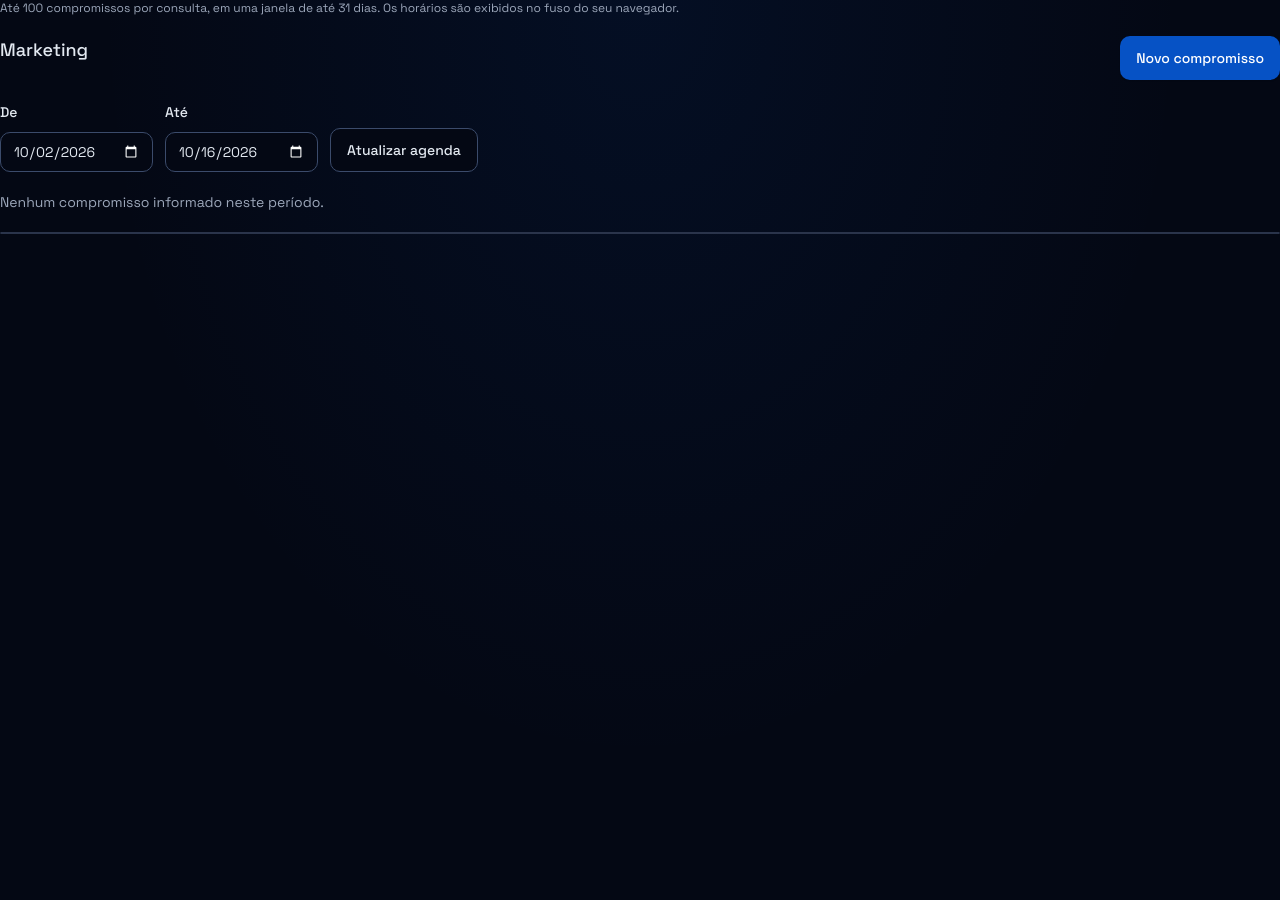
Workspace human review › publishes a calendar commitment only after preview and explicit confirmation
Click the button "Novo compromisso": [1200, 58] box [1120, 36, 1279, 80]
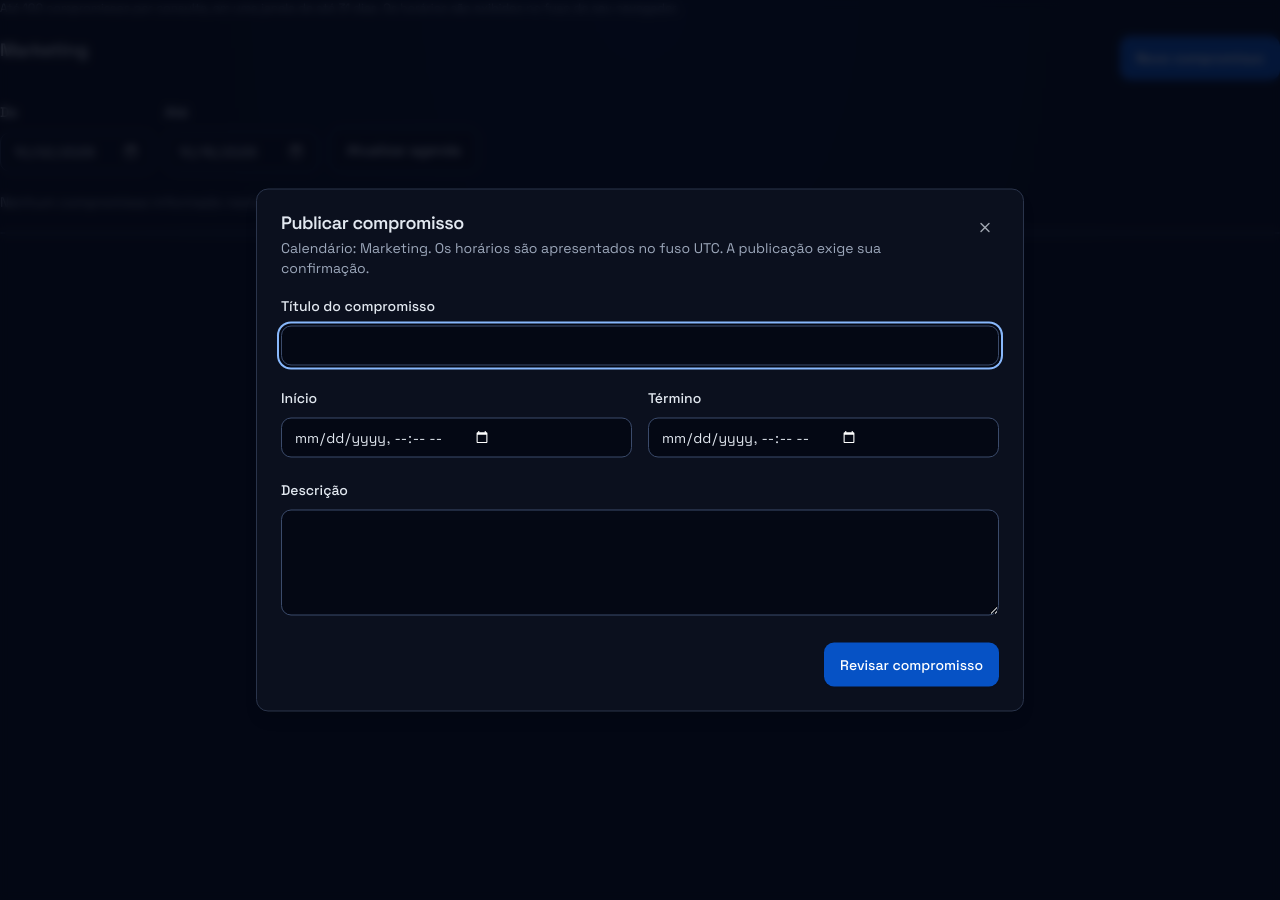
In the field labelled "Título do compromisso": [640, 346] box [281, 326, 999, 366], type "Revisão de criativos"
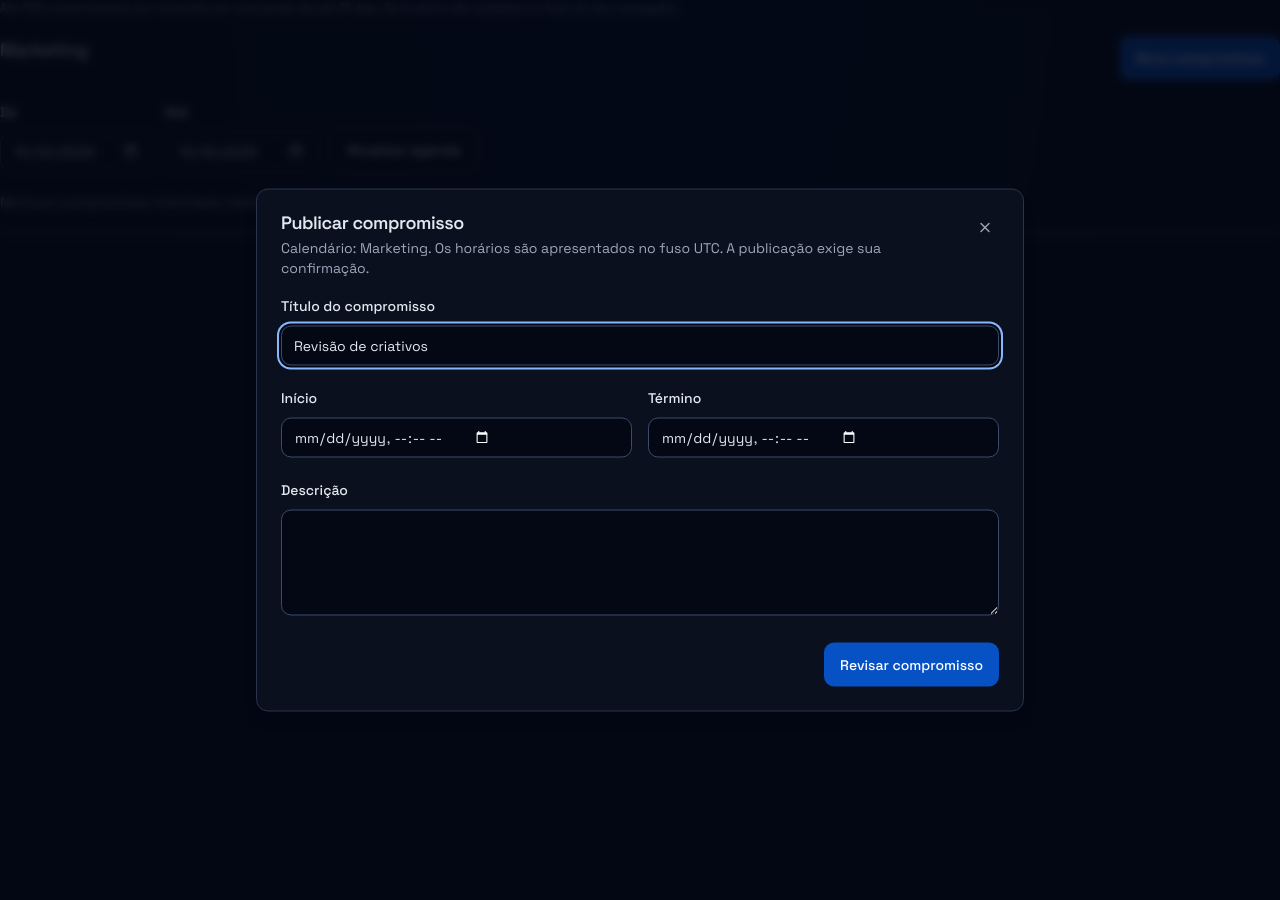
In the field labelled "Início": [456, 438] box [281, 418, 632, 458], type "2026-10-10T09:00"
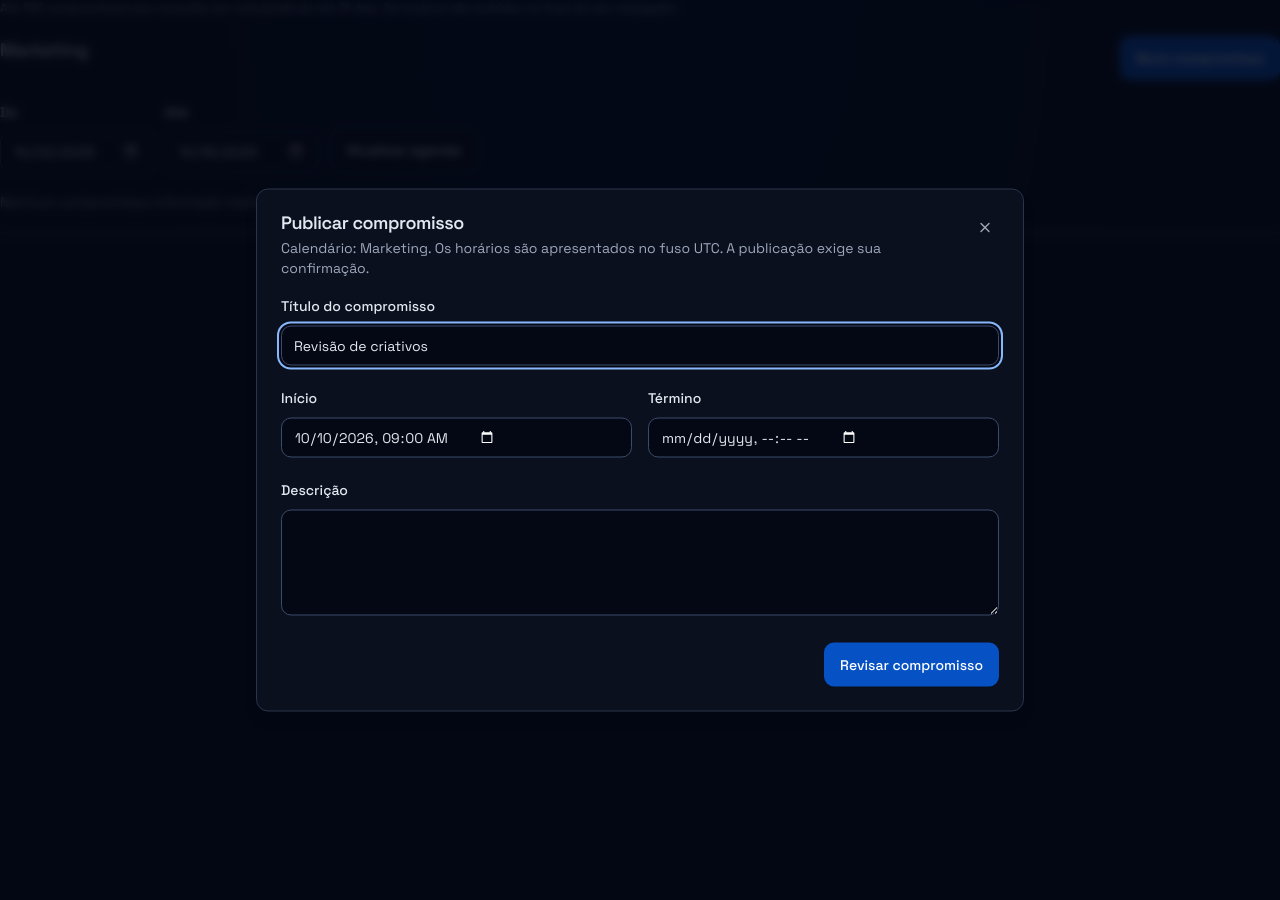
In the field labelled "Término": [824, 438] box [648, 418, 999, 458], type "2026-10-10T10:00"
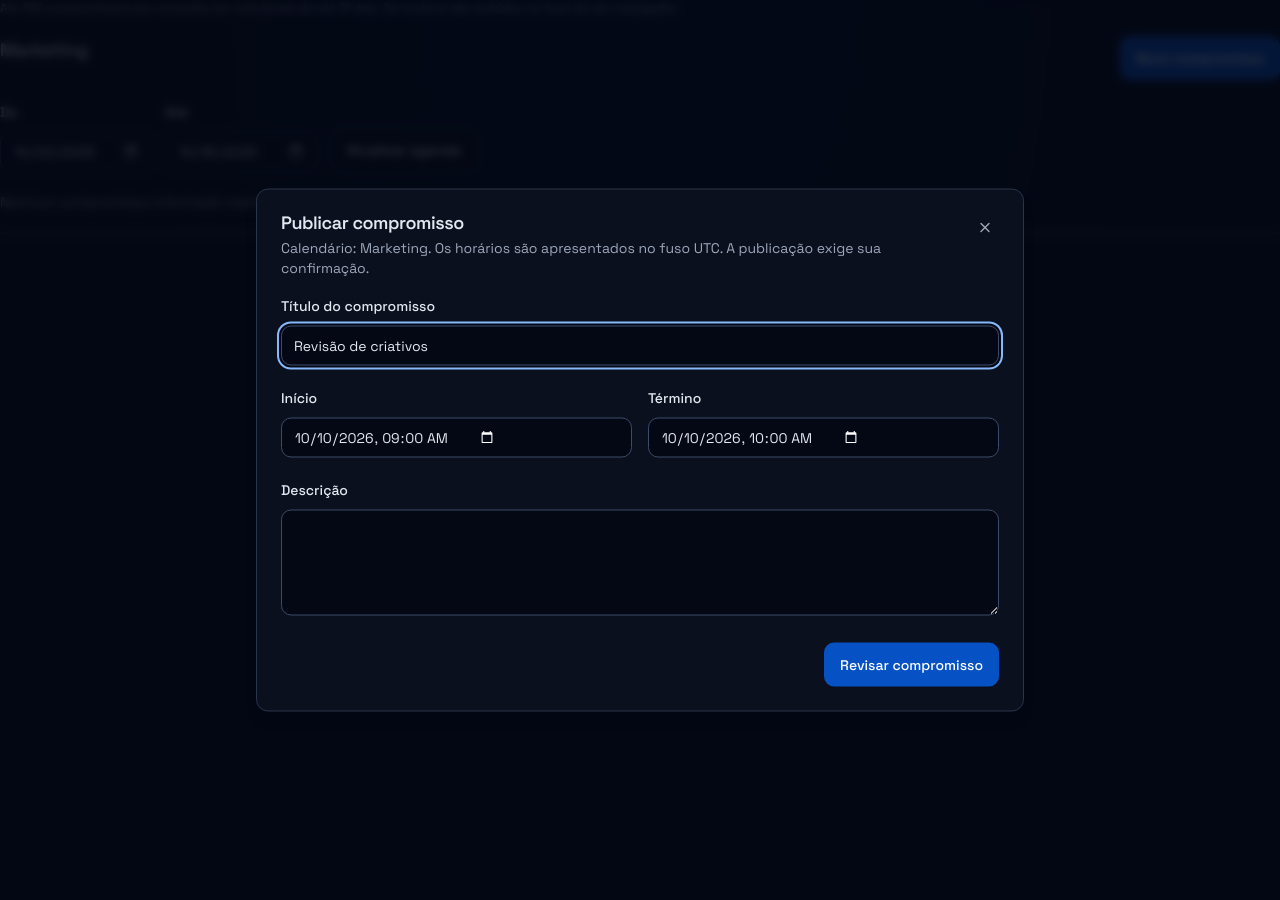
Click the button "Revisar compromisso": [912, 664] box [824, 642, 999, 686]
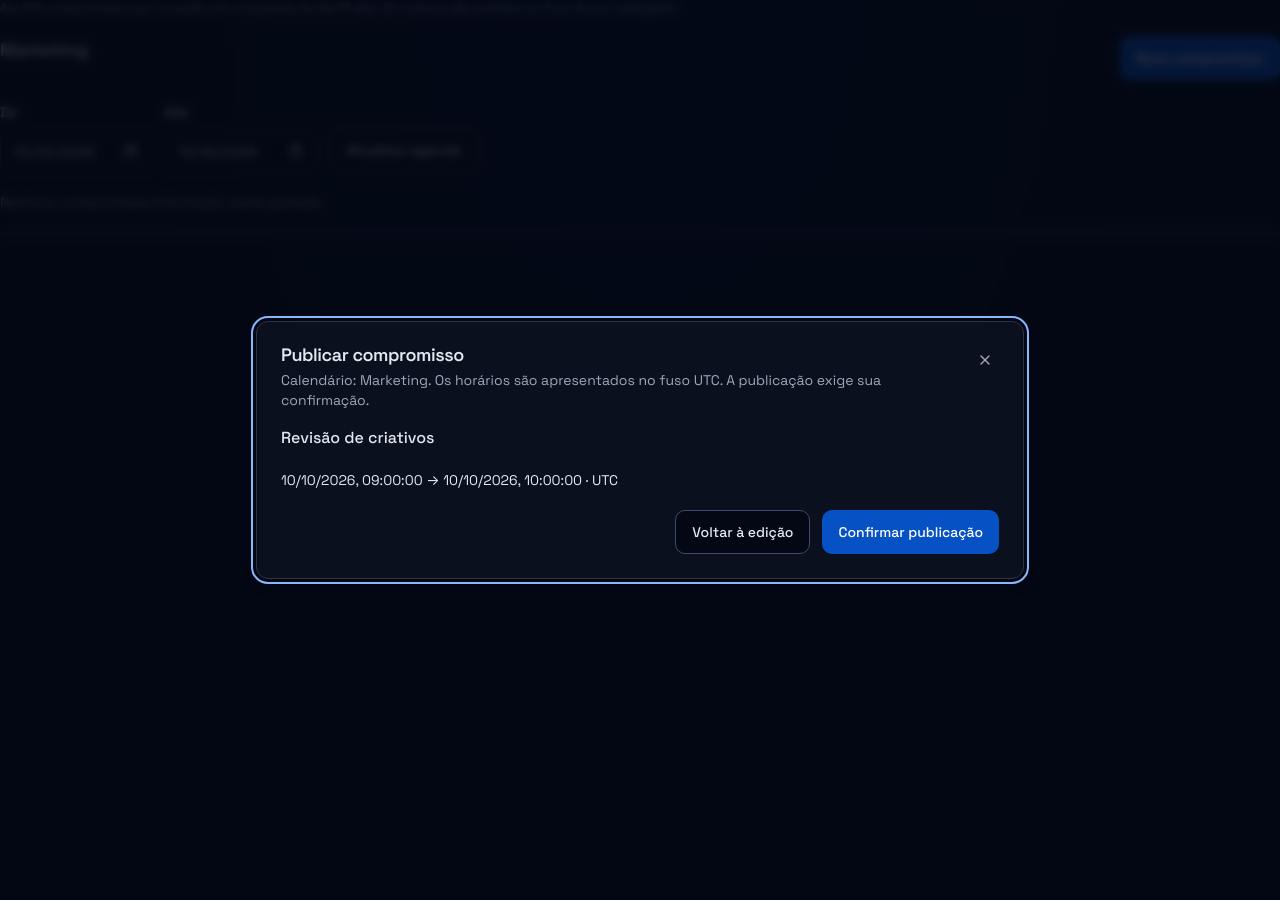
Click the button "Confirmar publicação": [911, 532] box [822, 510, 999, 554]
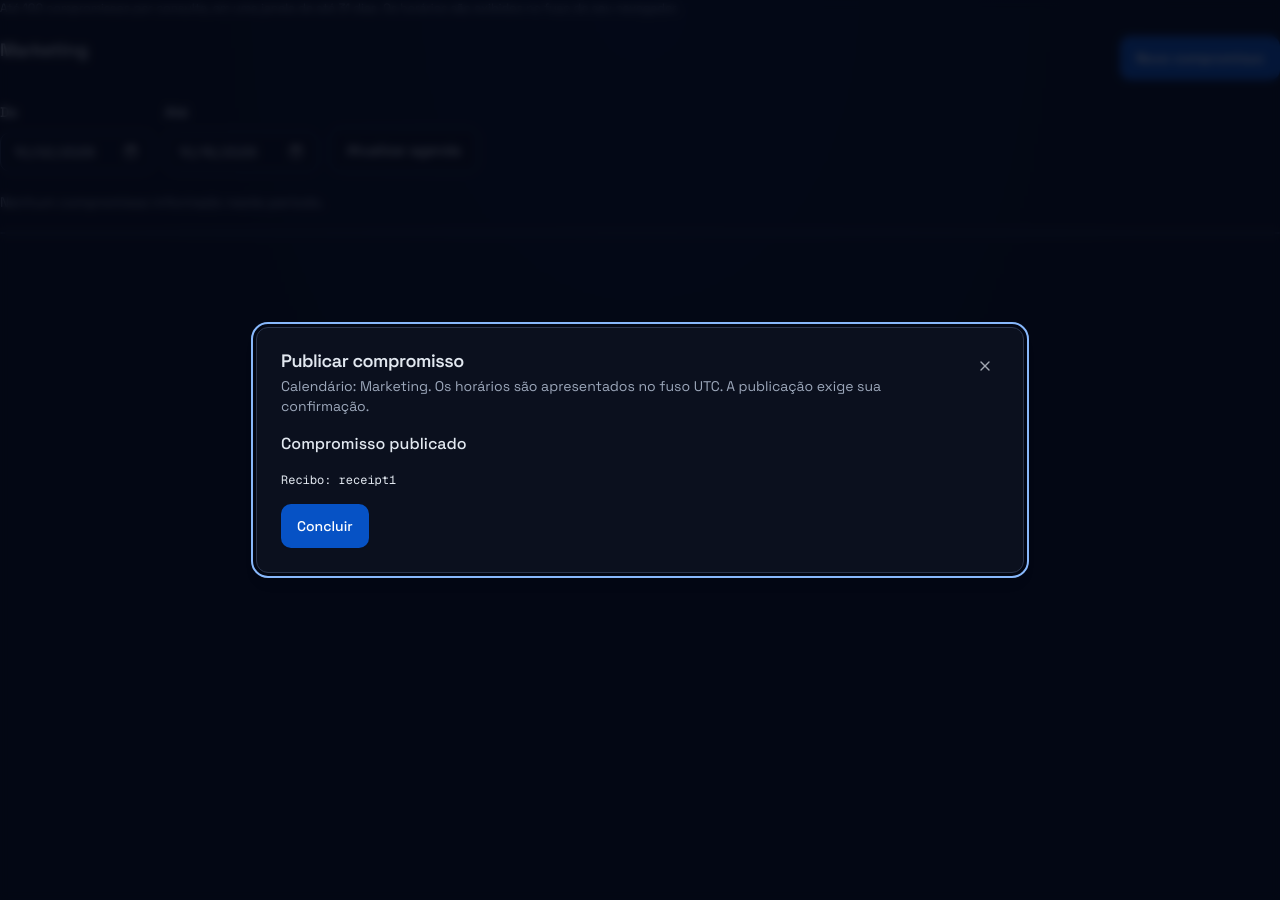
Check: the heading "Compromisso publicado" is shown, box [281, 433, 466, 454]
